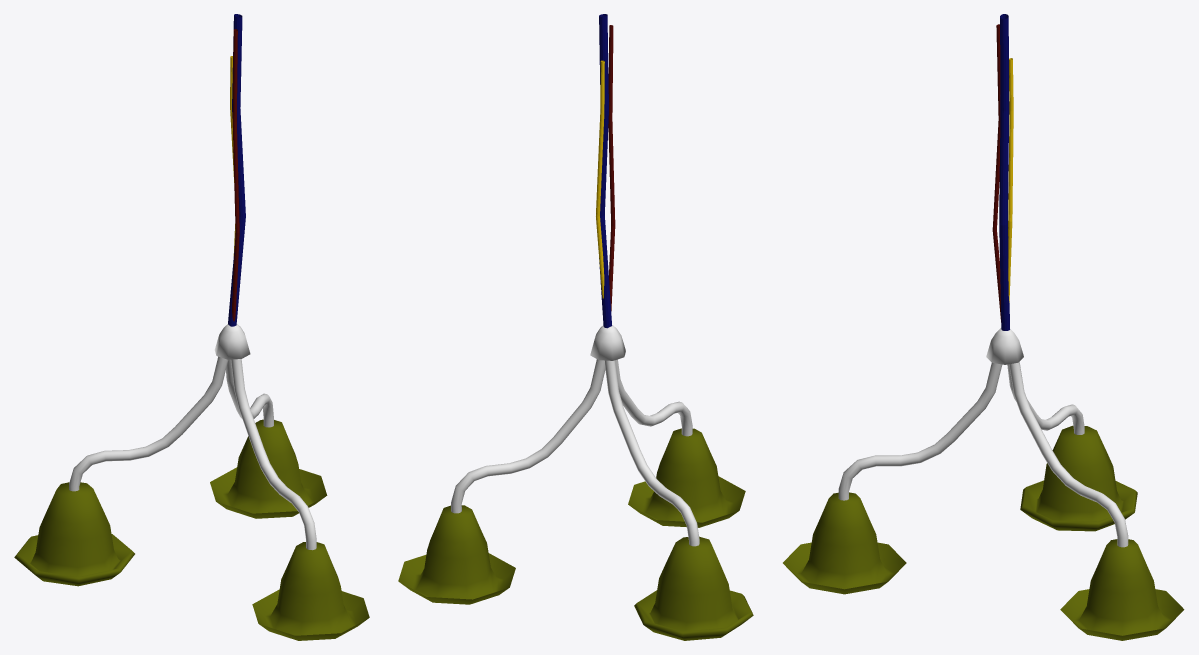
The model's file is obst6.fbx.
3 renders of one model, left to right at view 1: azimuth 30°, elevation 25°; view 2: azimuth 150°, elevation 25°; view 3: azimuth 270°, elevation 25°, orthographic. The views are drawn at different scales.
Visible parts, largest first — view 1: Plane.001; view 2: Plane.001; view 3: Plane.001.
Part boxes in pixels (x1,y1,x2,y2): Plane.001: [14, 14, 369, 640]; Plane.001: [398, 14, 753, 640]; Plane.001: [783, 14, 1184, 640].
Size of the model in its own units: 114 by 188 by 122.
